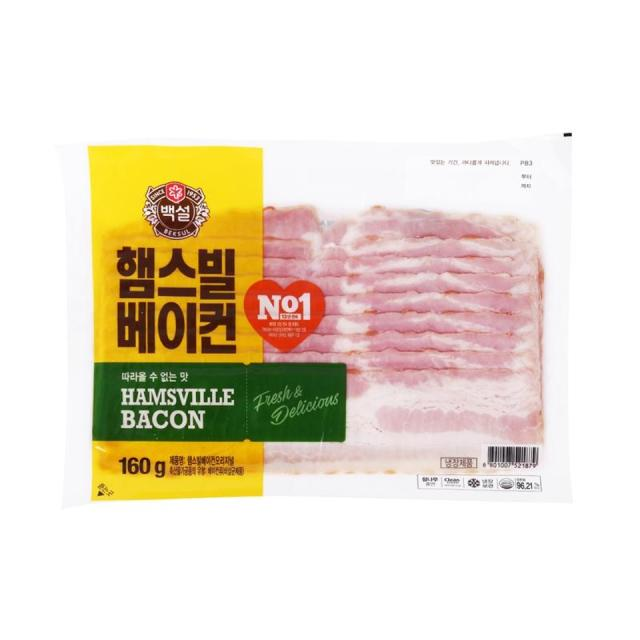bacon: (35, 148, 581, 510)
